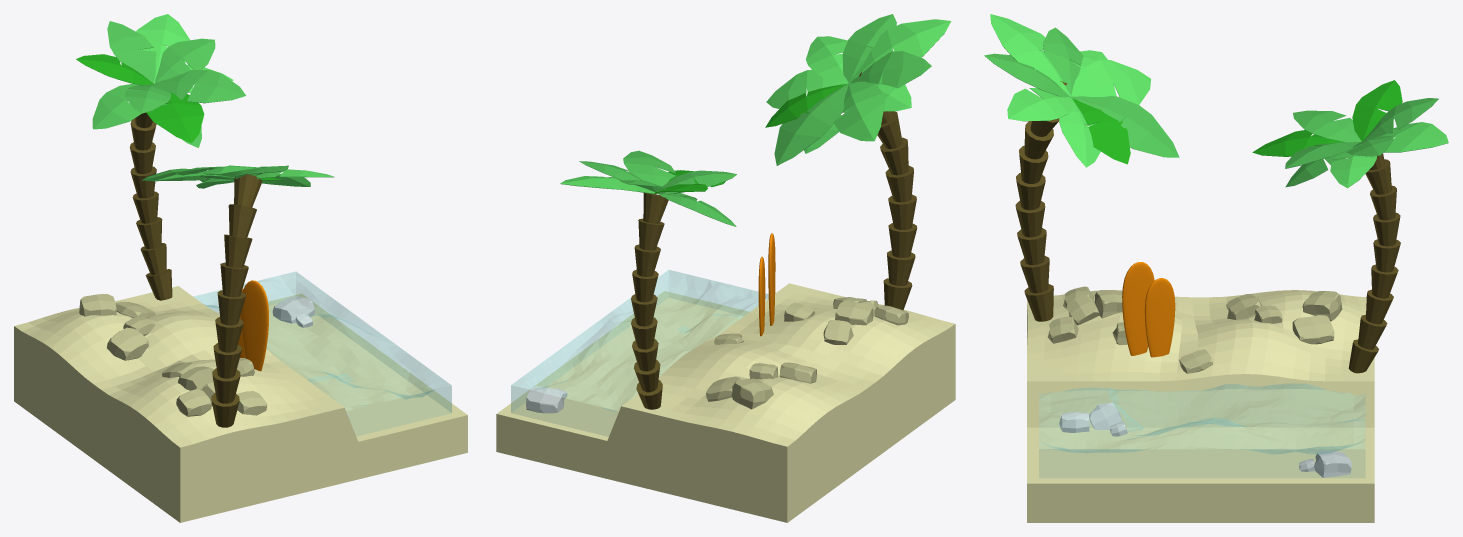
File: Beach low polygon but do it right.glb
The picture shows the model from 3 angles, left to right: view 1: azimuth 30°, elevation 25°; view 2: azimuth 150°, elevation 25°; view 3: azimuth 270°, elevation 25°; orthographic projection. The views are drawn at different scales.
Visible parts, largest first — view 1: Terrain, Sea, Trunk.005, Trunk, Surfing board, Leaf.007, Leaf, Leaf.009, Leaf.001, Leaf.002, Leaf.003, Leaf.005 (+7 smaller); view 2: Terrain, Sea, Trunk, Trunk.005, Leaf.019, Leaf.017, Leaf.013, Leaf.010, Leaf.011, Leaf.015, Leaf.012, Leaf.007 (+13 smaller); view 3: Terrain, Sea, Trunk.005, Trunk, Leaf.019, Leaf.017, Surfing board, Leaf.013, Surfing board.002, Leaf, Leaf.016, Leaf.015 (+20 smaller).
Boxes of the visible parts, x1=… form: Terrain: x1=14, y1=286, x2=467, y2=522; Sea: x1=193, y1=271, x2=451, y2=435; Trunk.005: x1=211, y1=174, x2=262, y2=427; Trunk: x1=129, y1=112, x2=172, y2=300; Surfing board: x1=241, y1=280, x2=268, y2=371; Leaf.007: x1=154, y1=70, x2=245, y2=103; Leaf: x1=107, y1=21, x2=201, y2=147; Leaf.009: x1=146, y1=84, x2=204, y2=142; Leaf.001: x1=154, y1=38, x2=215, y2=83; Leaf.002: x1=92, y1=84, x2=141, y2=129; Leaf.003: x1=136, y1=14, x2=189, y2=83; Leaf.005: x1=76, y1=54, x2=153, y2=85; Terrain: x1=496, y1=283, x2=955, y2=522; Sea: x1=511, y1=270, x2=768, y2=436; Trunk: x1=631, y1=193, x2=668, y2=409; Trunk.005: x1=848, y1=70, x2=917, y2=310; Leaf.019: x1=774, y1=83, x2=848, y2=165; Leaf.017: x1=834, y1=81, x2=884, y2=141; Leaf.013: x1=849, y1=19, x2=951, y2=83; Leaf.010: x1=804, y1=14, x2=896, y2=153; Leaf.011: x1=851, y1=51, x2=931, y2=88; Leaf.015: x1=806, y1=36, x2=848, y2=83; Leaf.012: x1=766, y1=69, x2=847, y2=108; Leaf.007: x1=623, y1=150, x2=675, y2=186; Terrain: x1=1027, y1=290, x2=1374, y2=522; Sea: x1=1039, y1=383, x2=1365, y2=477; Trunk.005: x1=1015, y1=81, x2=1067, y2=321; Trunk: x1=1348, y1=153, x2=1400, y2=373; Leaf.019: x1=1071, y1=96, x2=1179, y2=157; Leaf.017: x1=1071, y1=60, x2=1150, y2=104; Surfing board: x1=1122, y1=262, x2=1154, y2=355; Leaf.013: x1=990, y1=14, x2=1071, y2=96; Surfing board.002: x1=1144, y1=278, x2=1175, y2=357; Leaf: x1=1285, y1=98, x2=1438, y2=187; Leaf.016: x1=1071, y1=97, x2=1130, y2=164; Leaf.015: x1=1007, y1=88, x2=1073, y2=121.
Bounding box in the file's own units: 8.04 × 9.47 × 10.69.
